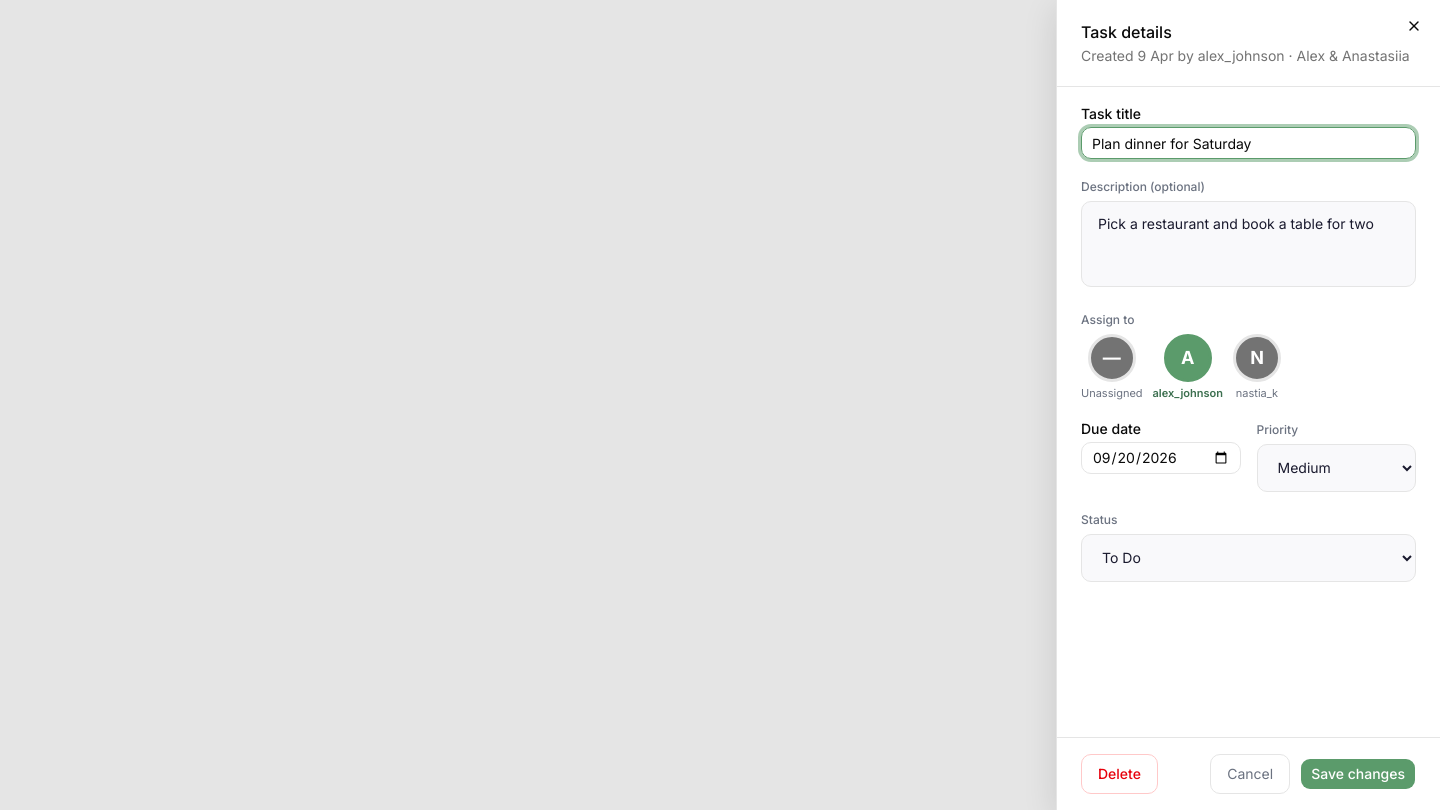
TaskDrawer — edit mode › surfaces an inline error and keeps the drawer open on a 400 save response
Replace the text in the field showing "Plan dinner for Saturday" with "Bad title": (1248, 143) [1081,127,1416,159]
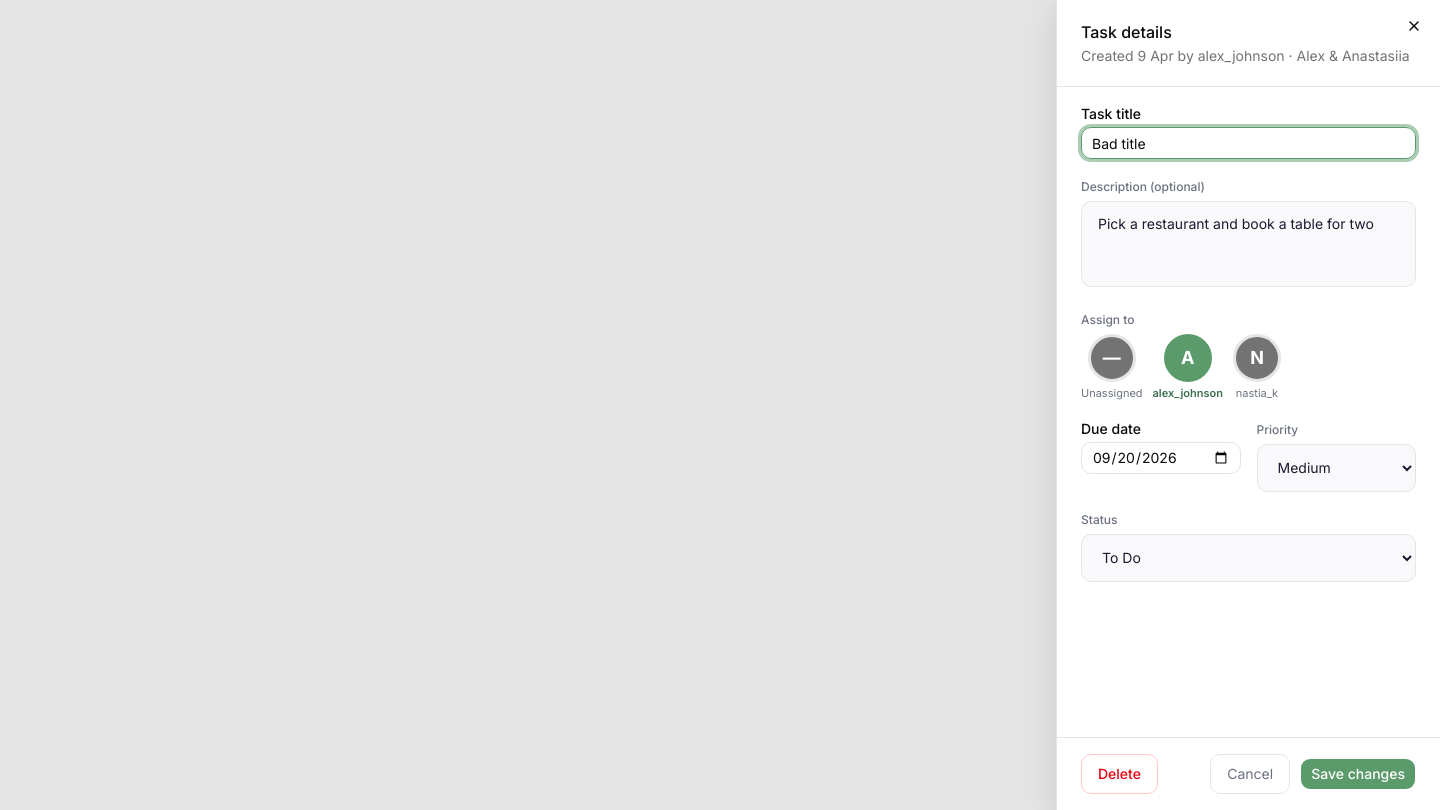
Click the button "Save changes": (1358, 774) [1300,758,1416,790]
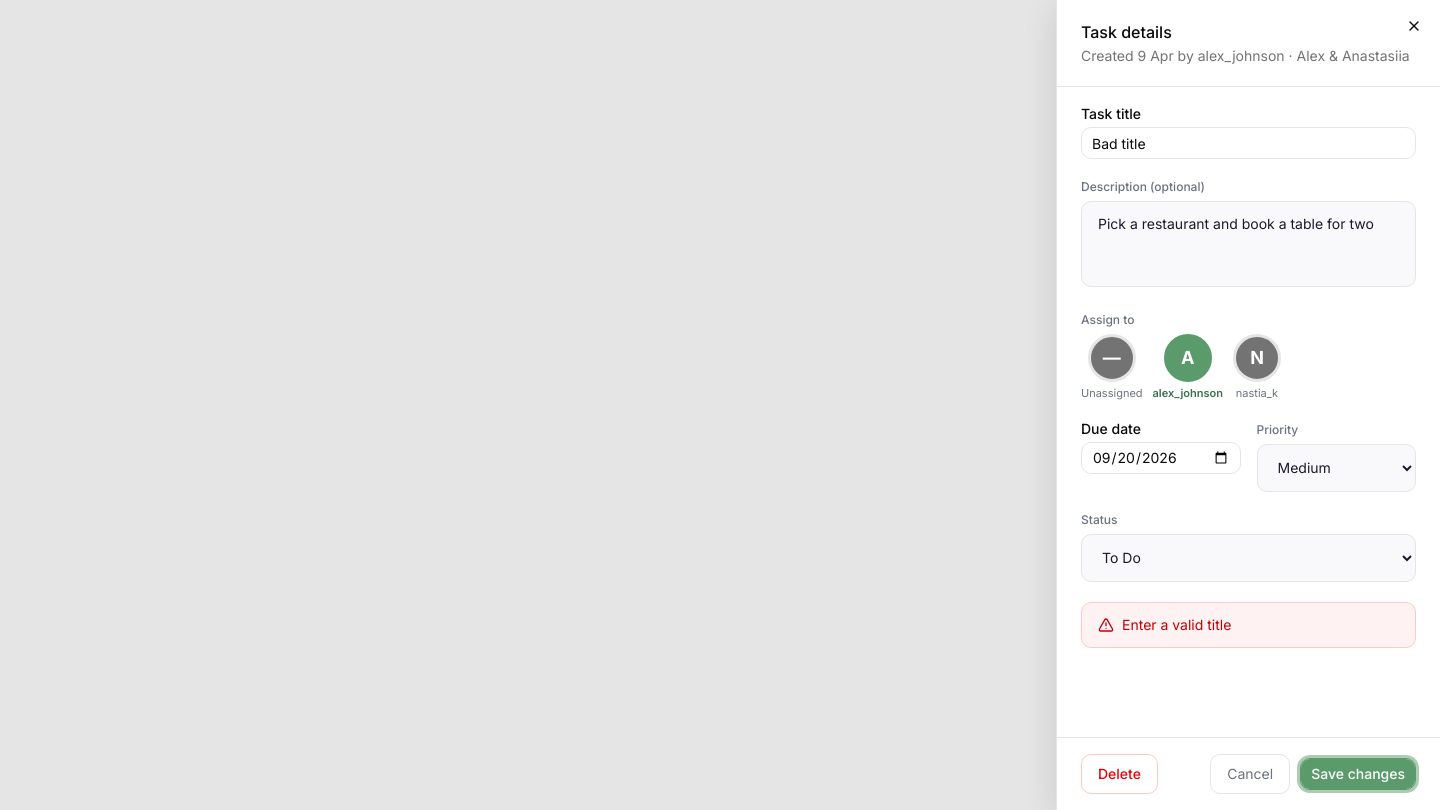
Check: the message reads "Enter a valid title", box [1122,616,1231,633]
